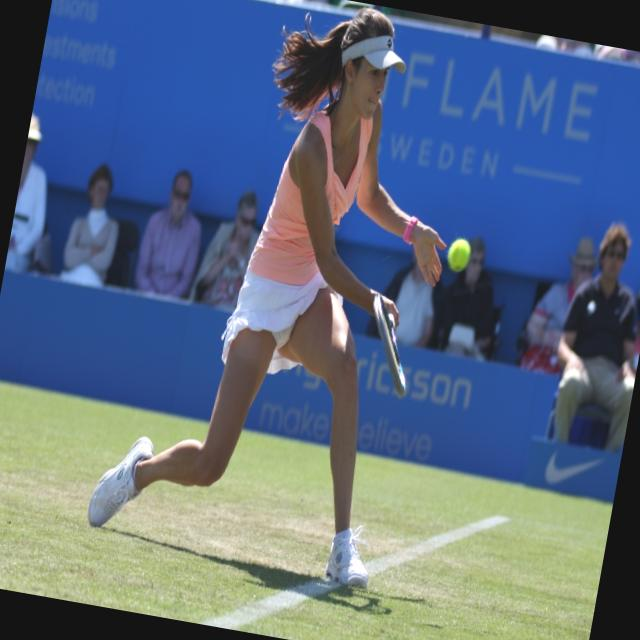Tennis Ball: (446, 236, 472, 272)
